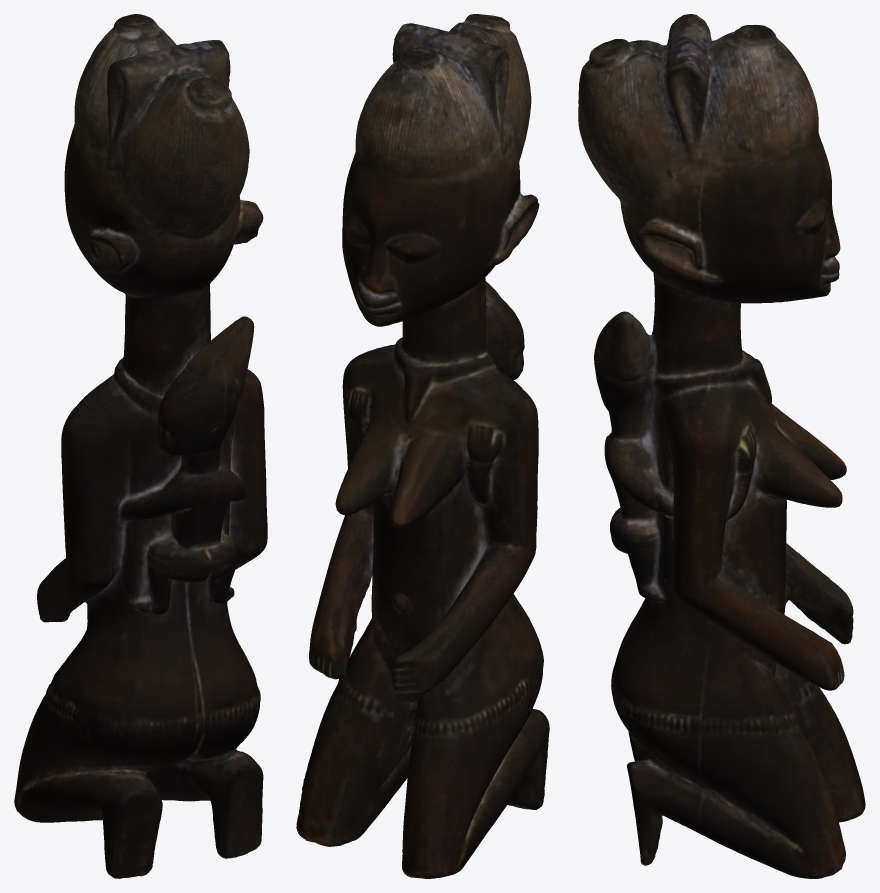
File: preview.glb
3 renders of one model, left to right at view 1: azimuth 30°, elevation 25°; view 2: azimuth 150°, elevation 25°; view 3: azimuth 270°, elevation 25°, orthographic. The views are drawn at different scales.
Visible parts, largest first — view 1: Object_2; view 2: Object_2; view 3: Object_2.
Boxes of the visible parts, <box> form: Object_2: <box>14,14,267,878</box>; Object_2: <box>296,14,549,878</box>; Object_2: <box>578,14,865,878</box>.
Size of the model in its own units: 145 by 581 by 187.
1 material, 1 textured.
